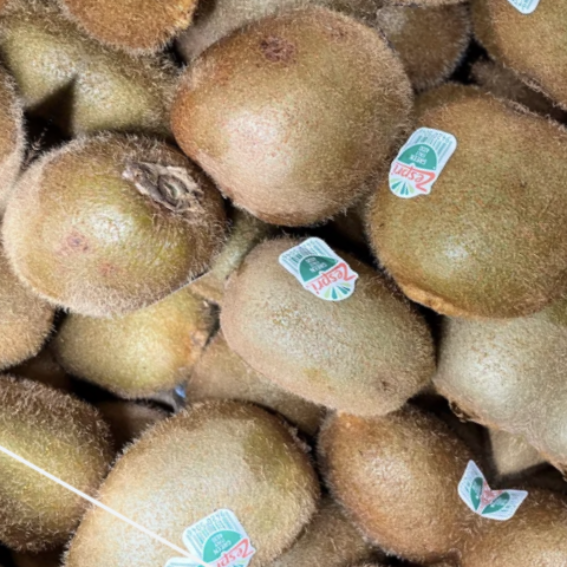kiwi: (126, 0, 466, 293), (0, 52, 268, 389), (304, 43, 567, 385), (161, 190, 474, 474), (86, 354, 370, 567)
